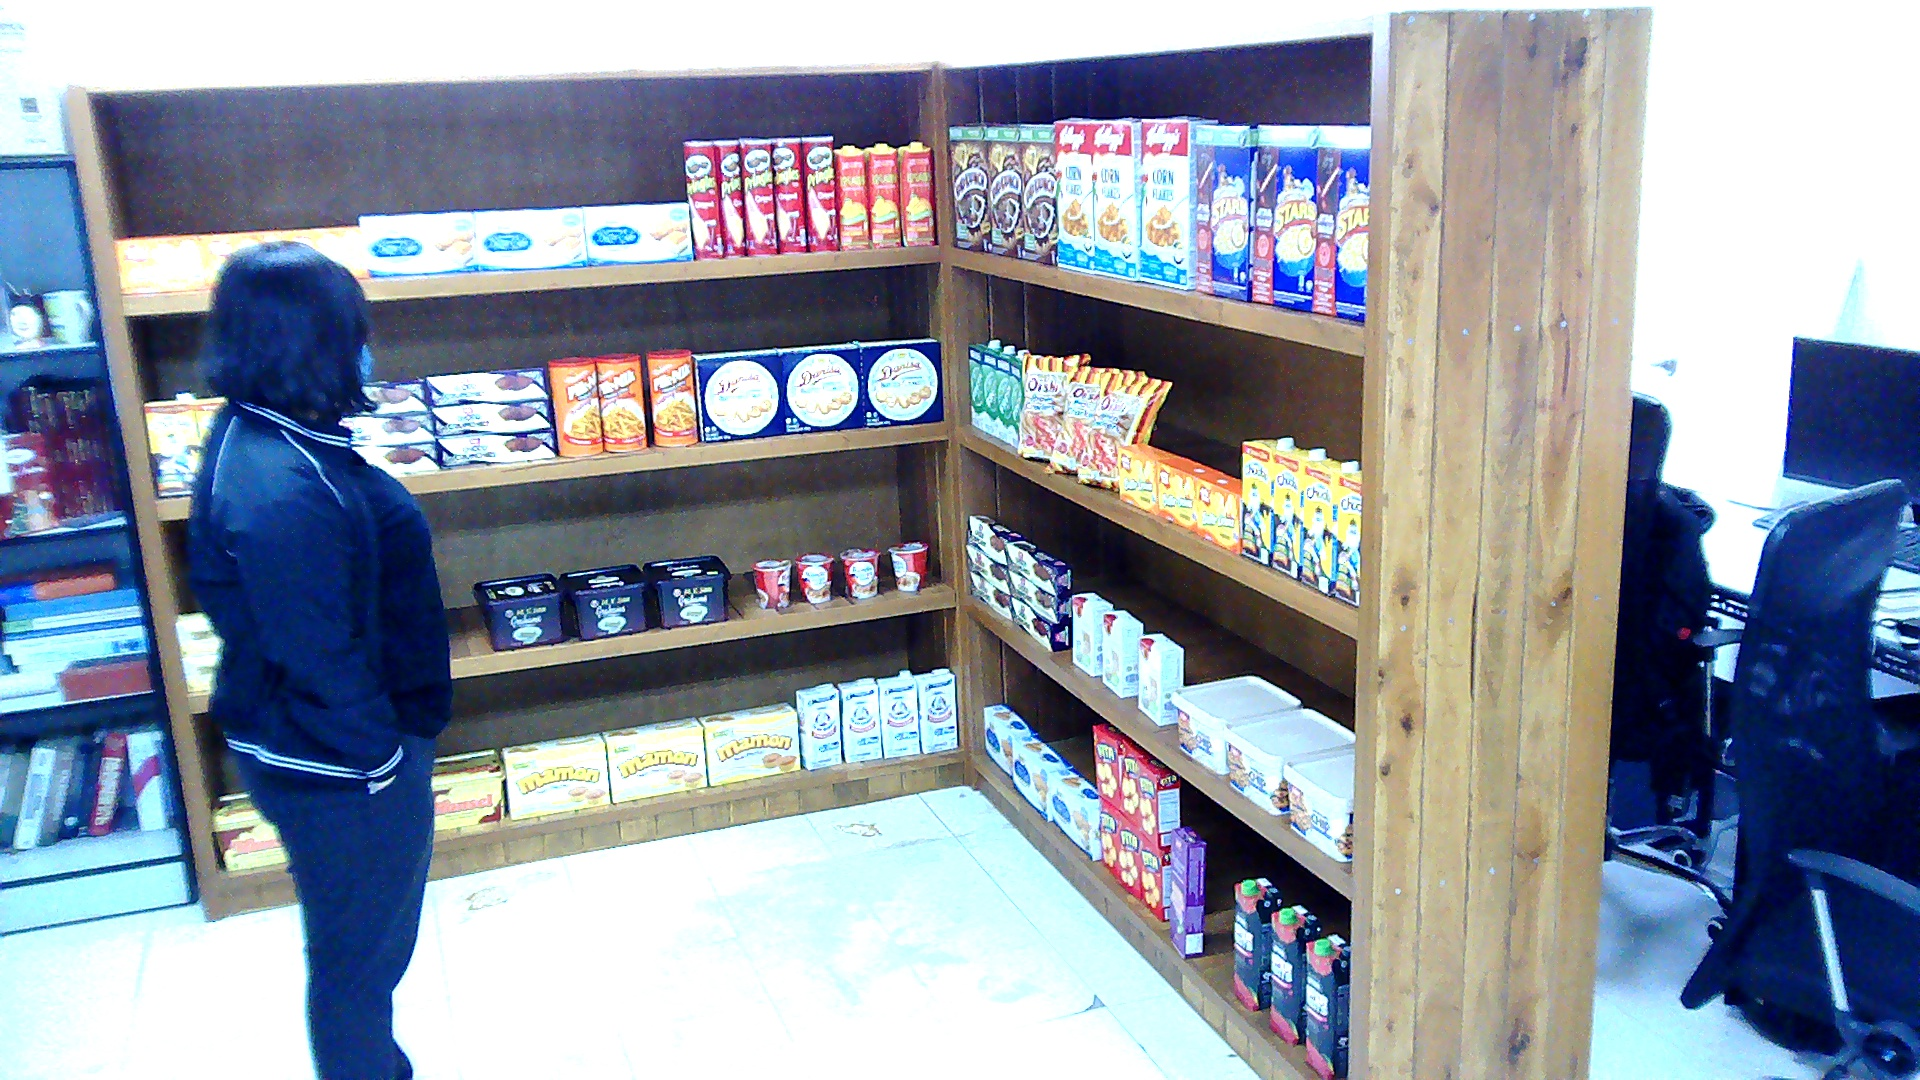Bear brand: (837, 677, 879, 763), (876, 670, 918, 756), (798, 684, 840, 770), (915, 668, 954, 754)
Buttercake: (360, 209, 480, 277), (474, 206, 588, 269), (585, 202, 693, 265), (1011, 733, 1071, 821), (1047, 765, 1098, 859), (983, 702, 1034, 774)
Butterlicious: (114, 233, 204, 292), (198, 229, 279, 288), (1155, 457, 1215, 531), (282, 225, 366, 277), (1118, 443, 1175, 513), (1194, 470, 1239, 553)
Camomille: (174, 611, 219, 654), (179, 655, 218, 691)
Choco Crunchies: (426, 367, 546, 405), (435, 430, 555, 466), (432, 398, 552, 434), (1004, 540, 1073, 596), (1008, 571, 1068, 623), (1010, 596, 1067, 650), (966, 513, 1023, 565), (354, 443, 438, 475), (347, 411, 434, 440), (365, 378, 428, 412), (969, 571, 1011, 618), (966, 544, 1008, 593)
Chocolate Chips: (1221, 706, 1353, 812), (1170, 674, 1299, 773), (1281, 744, 1353, 861)
Chuckie: (1298, 458, 1355, 593), (1272, 448, 1326, 578), (1241, 437, 1292, 565), (144, 391, 198, 497), (1335, 470, 1362, 607)
Danisa: (774, 342, 864, 432), (693, 349, 783, 441), (855, 337, 942, 425)
Fita: (1137, 754, 1179, 848), (1092, 720, 1128, 808), (1119, 738, 1149, 826), (1139, 832, 1166, 920), (1116, 810, 1140, 900), (1098, 796, 1116, 879)
Fresh Milk: (969, 342, 987, 428), (981, 349, 996, 437), (996, 351, 1008, 443), (1011, 355, 1023, 445)
Grahams: (558, 563, 648, 639), (474, 572, 564, 648), (642, 553, 732, 625)
Hansel: (209, 791, 284, 870), (434, 747, 503, 828)
Head: (194, 233, 383, 420)
Honey Stars: (1251, 123, 1317, 312), (1311, 126, 1371, 322), (1194, 124, 1254, 302)
Kellogg Corn Flakes: (1136, 119, 1193, 288), (1092, 119, 1137, 279), (1056, 119, 1092, 272)
Kimchi Noodles: (795, 551, 834, 603), (749, 558, 788, 607), (887, 540, 926, 589), (840, 547, 876, 599)
Koko Krunch: (1017, 124, 1056, 266), (948, 126, 990, 252), (984, 123, 1020, 258)
Locally Mango: (897, 142, 936, 245), (834, 144, 870, 250), (864, 142, 900, 248)
Mamon: (501, 731, 609, 819), (600, 715, 705, 801), (699, 702, 798, 785)
Oishi Prawn: (1040, 362, 1145, 472), (1076, 371, 1169, 490), (1017, 351, 1089, 459)
Pik-nik: (546, 355, 603, 456), (645, 348, 696, 445), (597, 350, 645, 449)
Pringles: (737, 139, 776, 254), (801, 135, 837, 252), (684, 141, 720, 258), (771, 135, 807, 252), (714, 139, 744, 256)
Super Fruits: (1269, 902, 1323, 1044), (1304, 934, 1349, 1076), (1233, 875, 1281, 1010)
Wafer: (1170, 825, 1203, 958)
iHop: (1136, 632, 1181, 724), (1101, 610, 1143, 698), (1071, 591, 1113, 674)
